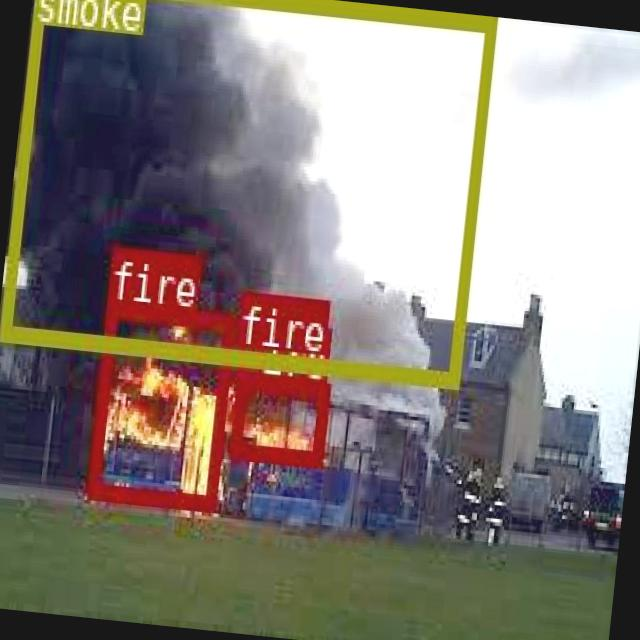fire: (85, 298, 234, 507), (227, 372, 328, 464), (232, 344, 258, 371)
smoke: (0, 0, 494, 382)
